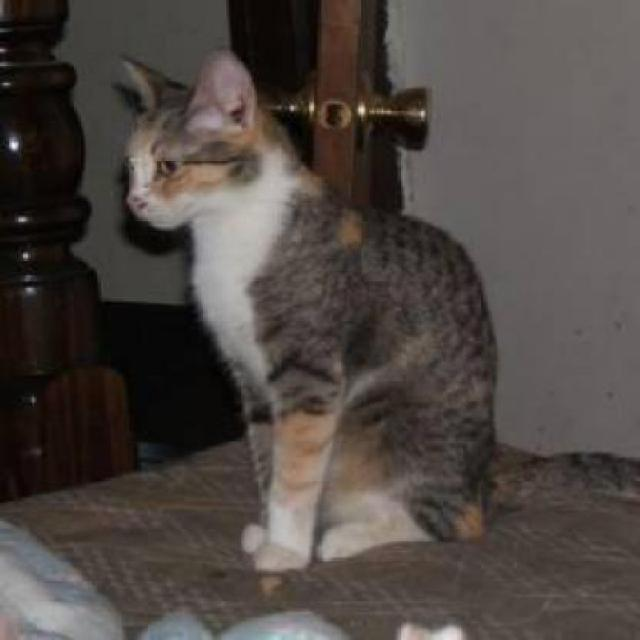cat: (116, 49, 638, 578)
